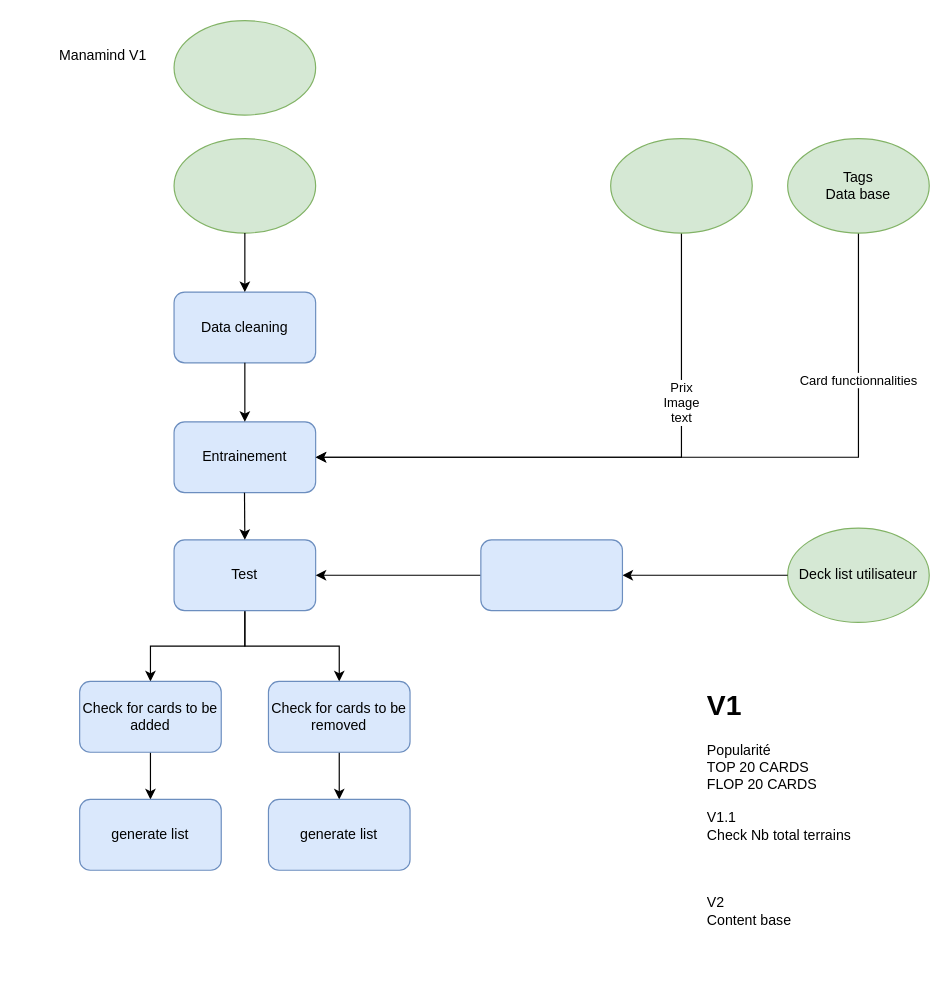
Image size: 950x984. Some labels were removed from this diagram. The shapes that lost their labels are listed below. From the top down, each one's centre as x and y in pixels, then its label:
At point 244,67: "Read me".
At point 244,185: "Deck list moxfield".
At point 680,185: "Scryfall API".
At point 551,575: "Transform".
